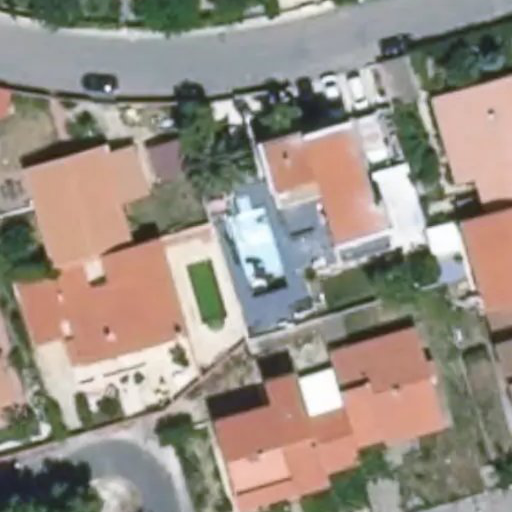pool: (219, 197, 288, 283)
